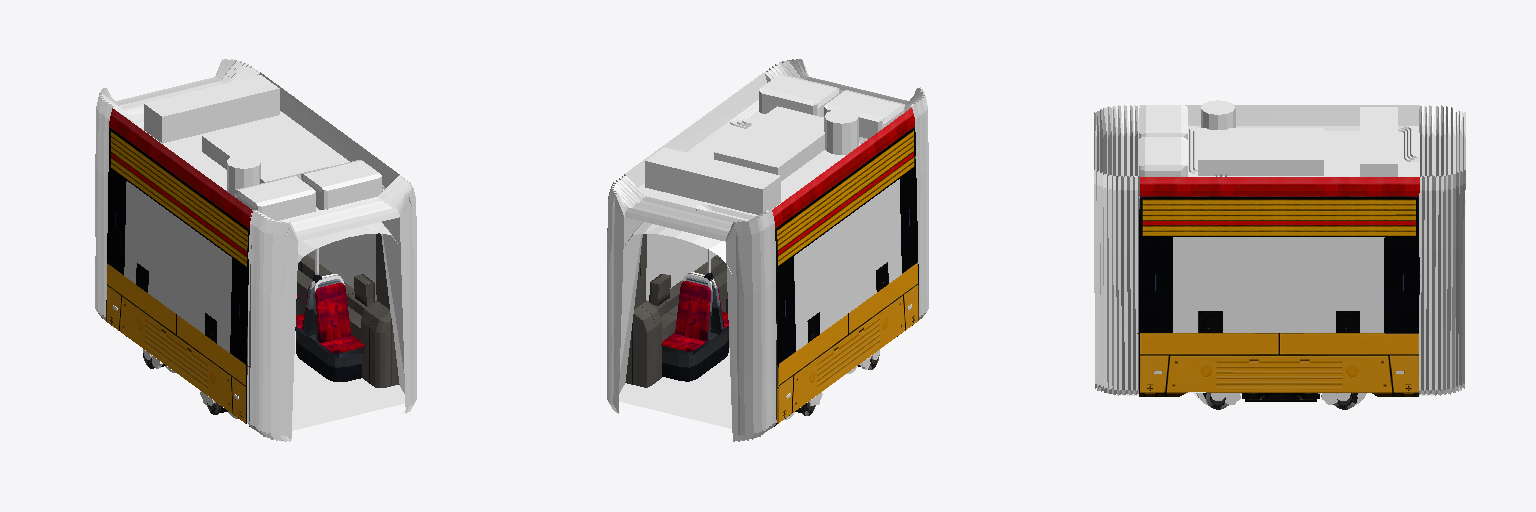
The picture shows the model from 3 angles: view 1: azimuth 30°, elevation 25°; view 2: azimuth 150°, elevation 25°; view 3: azimuth 270°, elevation 25°; orthographic projection.
Visible parts, largest first — view 1: body, salon, okno; view 2: body, salon, okno; view 3: body, okno.
Part boxes in pixels (bbox=[...]): body: bbox=[95, 59, 416, 441]; salon: bbox=[134, 222, 404, 433]; okno: bbox=[124, 181, 376, 352]; body: bbox=[607, 59, 928, 441]; salon: bbox=[619, 222, 893, 432]; okno: bbox=[646, 179, 901, 350]; body: bbox=[1094, 100, 1465, 409]; okno: bbox=[1173, 237, 1384, 332].
Size of the model in its own units: 2.54 by 3.82 by 5.06.
Materials: 34 (13 with a texture image).